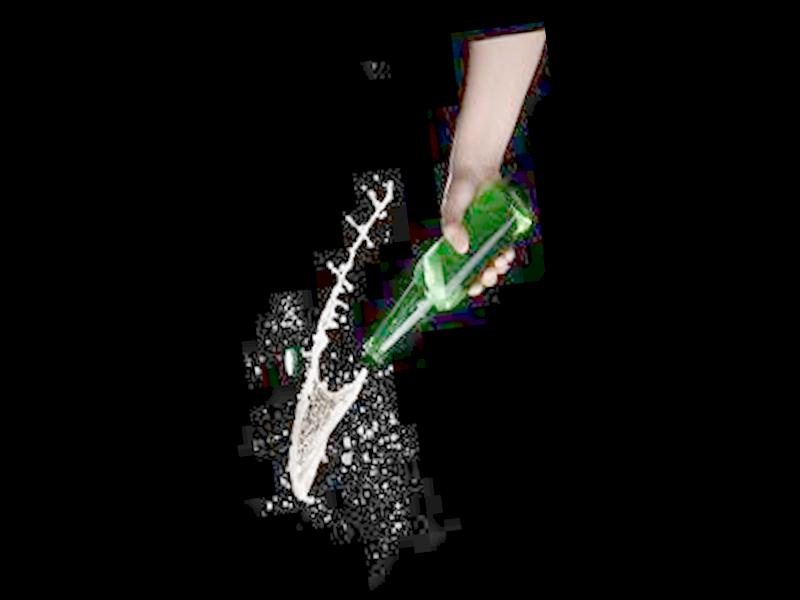Beer: (347, 175, 549, 363)
